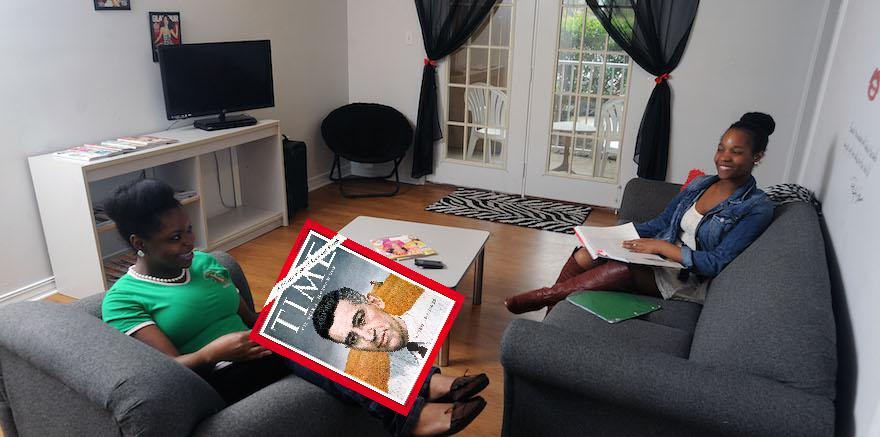times: (241, 220, 479, 422)
